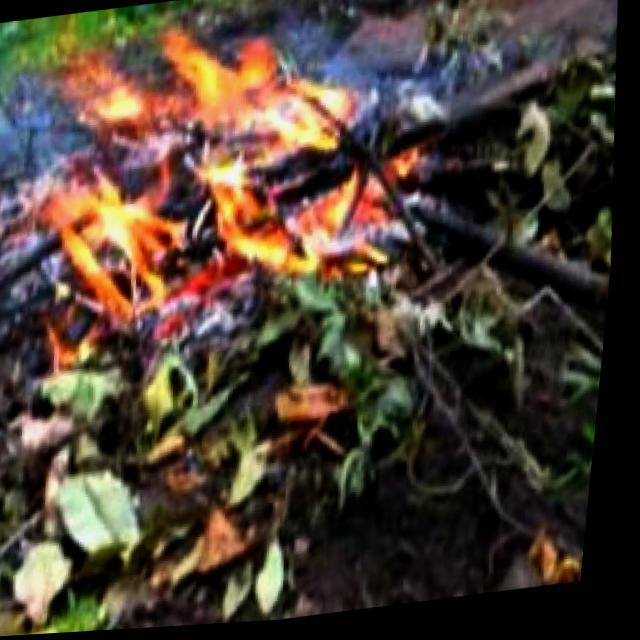Fire: (0, 0, 454, 393)
